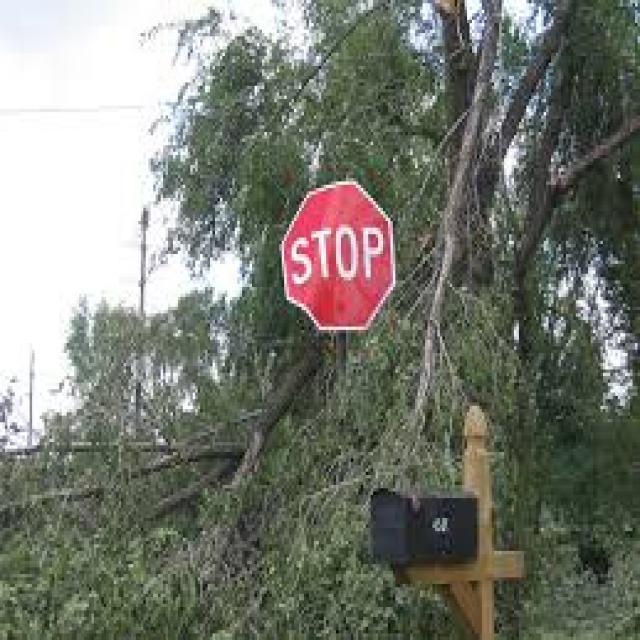stop-sign: (266, 176, 433, 323)
